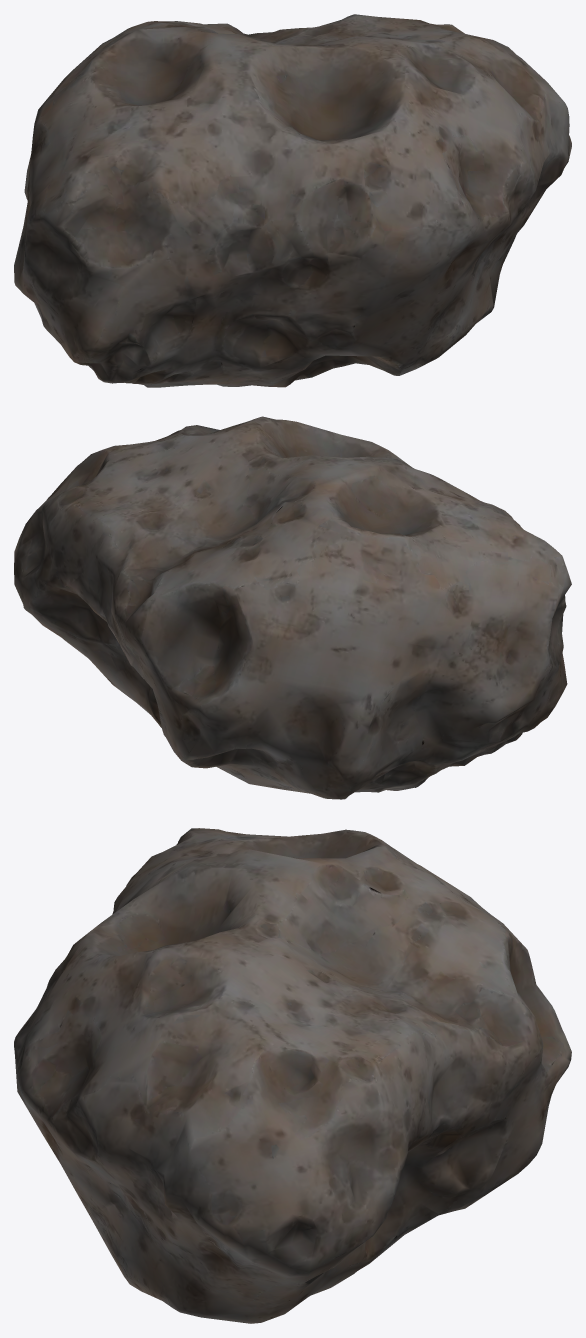
File: meteorite.glb
The picture shows the model from 3 angles, top to bottom: view 1: azimuth 30°, elevation 25°; view 2: azimuth 150°, elevation 25°; view 3: azimuth 270°, elevation 25°; orthographic projection. The views are drawn at different scales.
Parts seen in each view (by area): view 1: Meteorite_Meteorite_Shader_Proxy_0; view 2: Meteorite_Meteorite_Shader_Proxy_0; view 3: Meteorite_Meteorite_Shader_Proxy_0.
Part boxes in pixels (<box>): Meteorite_Meteorite_Shader_Proxy_0: <box>14,14,571,387</box>; Meteorite_Meteorite_Shader_Proxy_0: <box>14,416,571,799</box>; Meteorite_Meteorite_Shader_Proxy_0: <box>14,828,571,1323</box>.
Bounding box in the file's own units: 7.19 × 4.26 × 5.61.
1 material, 1 textured.
